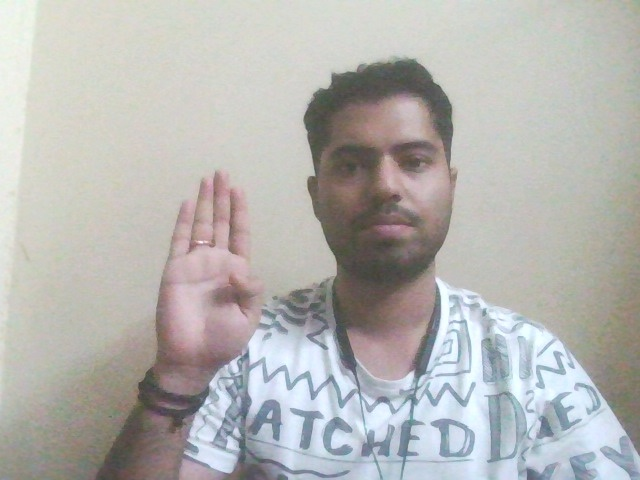B: (137, 155, 284, 376)
